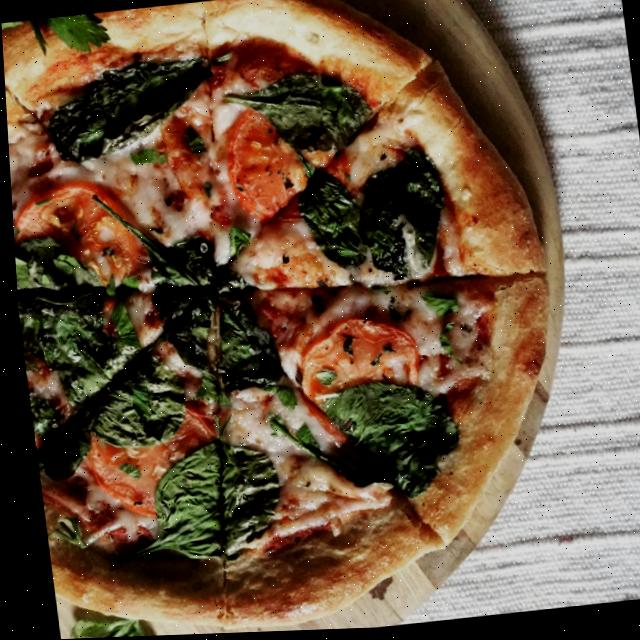basil: (257, 368, 459, 511), (102, 440, 284, 570), (141, 275, 296, 422), (11, 223, 147, 387), (37, 52, 220, 167), (85, 177, 237, 293), (220, 66, 380, 166), (348, 142, 451, 289), (64, 351, 190, 461), (287, 145, 366, 280), (22, 380, 97, 491), (411, 289, 467, 368), (44, 512, 82, 551), (379, 291, 417, 329), (124, 143, 169, 175), (219, 225, 254, 262), (179, 122, 208, 163), (357, 344, 396, 371), (203, 49, 241, 72), (108, 459, 139, 484), (308, 365, 335, 391), (333, 333, 355, 360), (63, 222, 81, 244), (29, 192, 52, 209), (10, 206, 21, 240), (196, 180, 212, 202)
pizza: (0, 0, 584, 640)
tomatoes: (215, 99, 357, 231), (8, 176, 142, 299), (282, 311, 421, 415), (116, 407, 218, 489), (69, 430, 152, 524), (290, 386, 343, 452)
